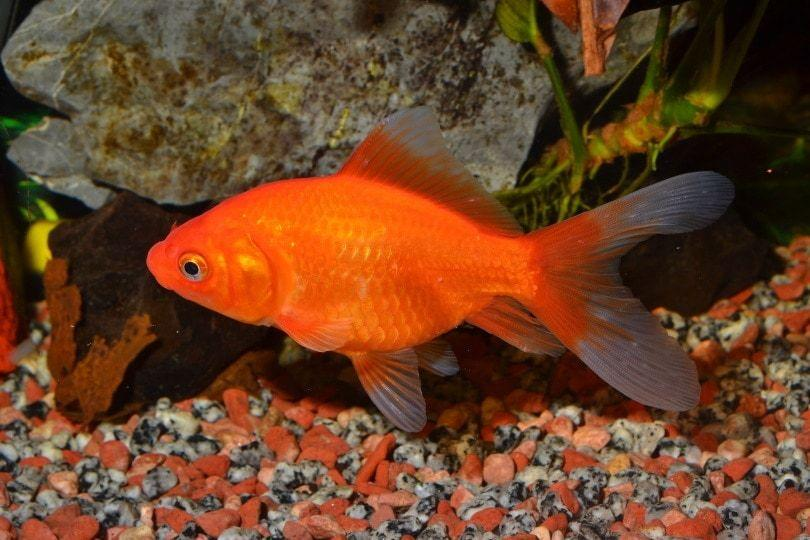Gold Fish: (143, 109, 739, 431)
